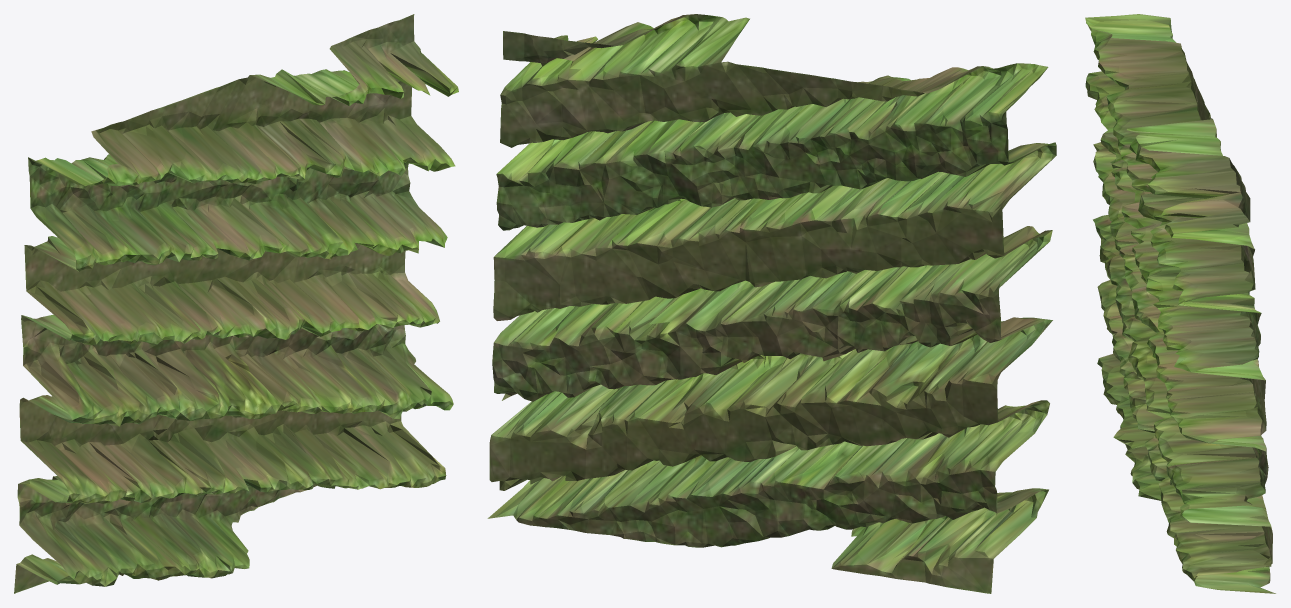
File: map_200_0.obj
The picture shows the model from 3 angles, left to right: view 1: azimuth 30°, elevation 25°; view 2: azimuth 150°, elevation 25°; view 3: azimuth 270°, elevation 25°; orthographic projection. The views are drawn at different scales.
Visible parts, largest first — view 1: grp1; view 2: grp1; view 3: grp1.
Boxes of the visible parts, x1,y1,x2,y2 form: grp1: [14, 14, 458, 593]; grp1: [487, 14, 1056, 593]; grp1: [1085, 14, 1275, 593].
Bounding box in the file's own units: 10 × 10 × 4.4.
1 material, 1 textured.
